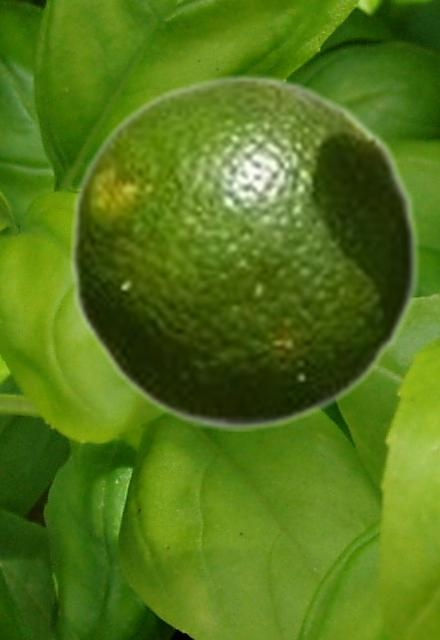calamansi: (67, 73, 421, 430)
